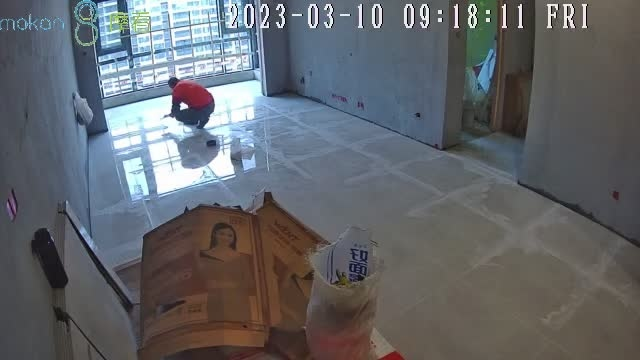people: (168, 77, 215, 130)
window: (94, 1, 266, 96)
